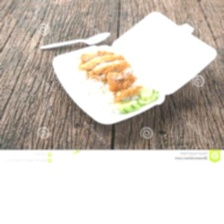foam_box: (47, 8, 220, 127)
